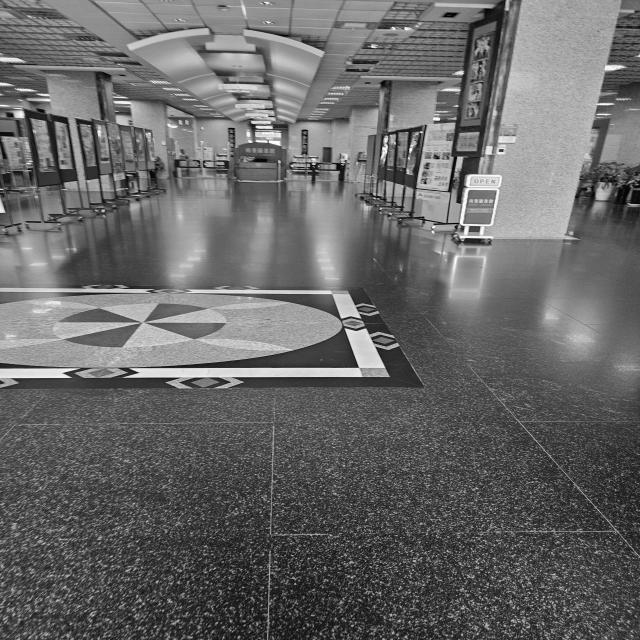Road-Object: (0, 171, 640, 640)
